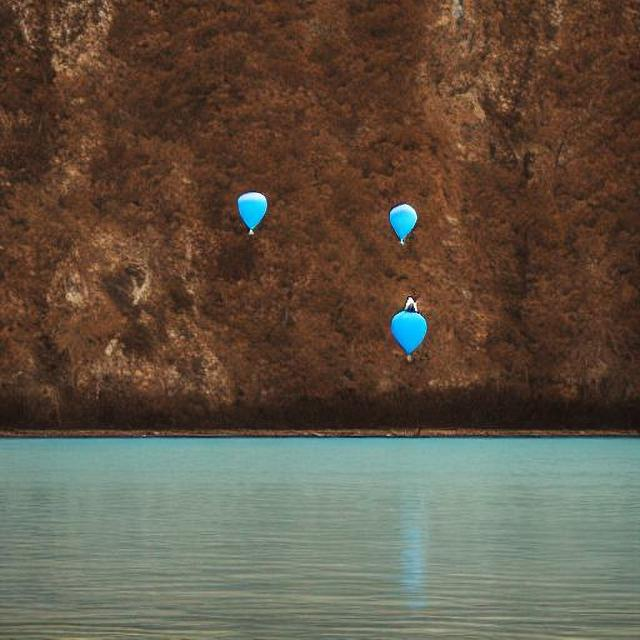balloon: (390, 294, 429, 359), (235, 186, 270, 234), (387, 201, 417, 245)
